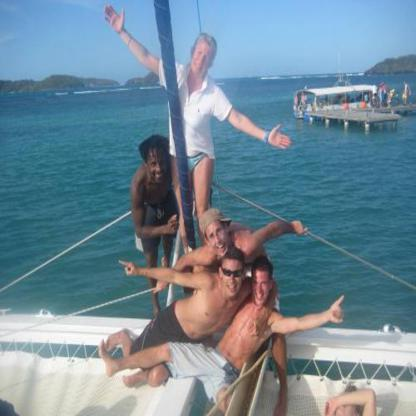face: (222, 261, 243, 298), (207, 225, 230, 258), (148, 150, 168, 184), (192, 44, 212, 75), (253, 271, 270, 307)
